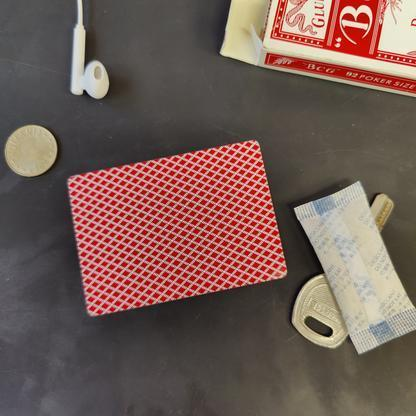card: (62, 131, 292, 330)
